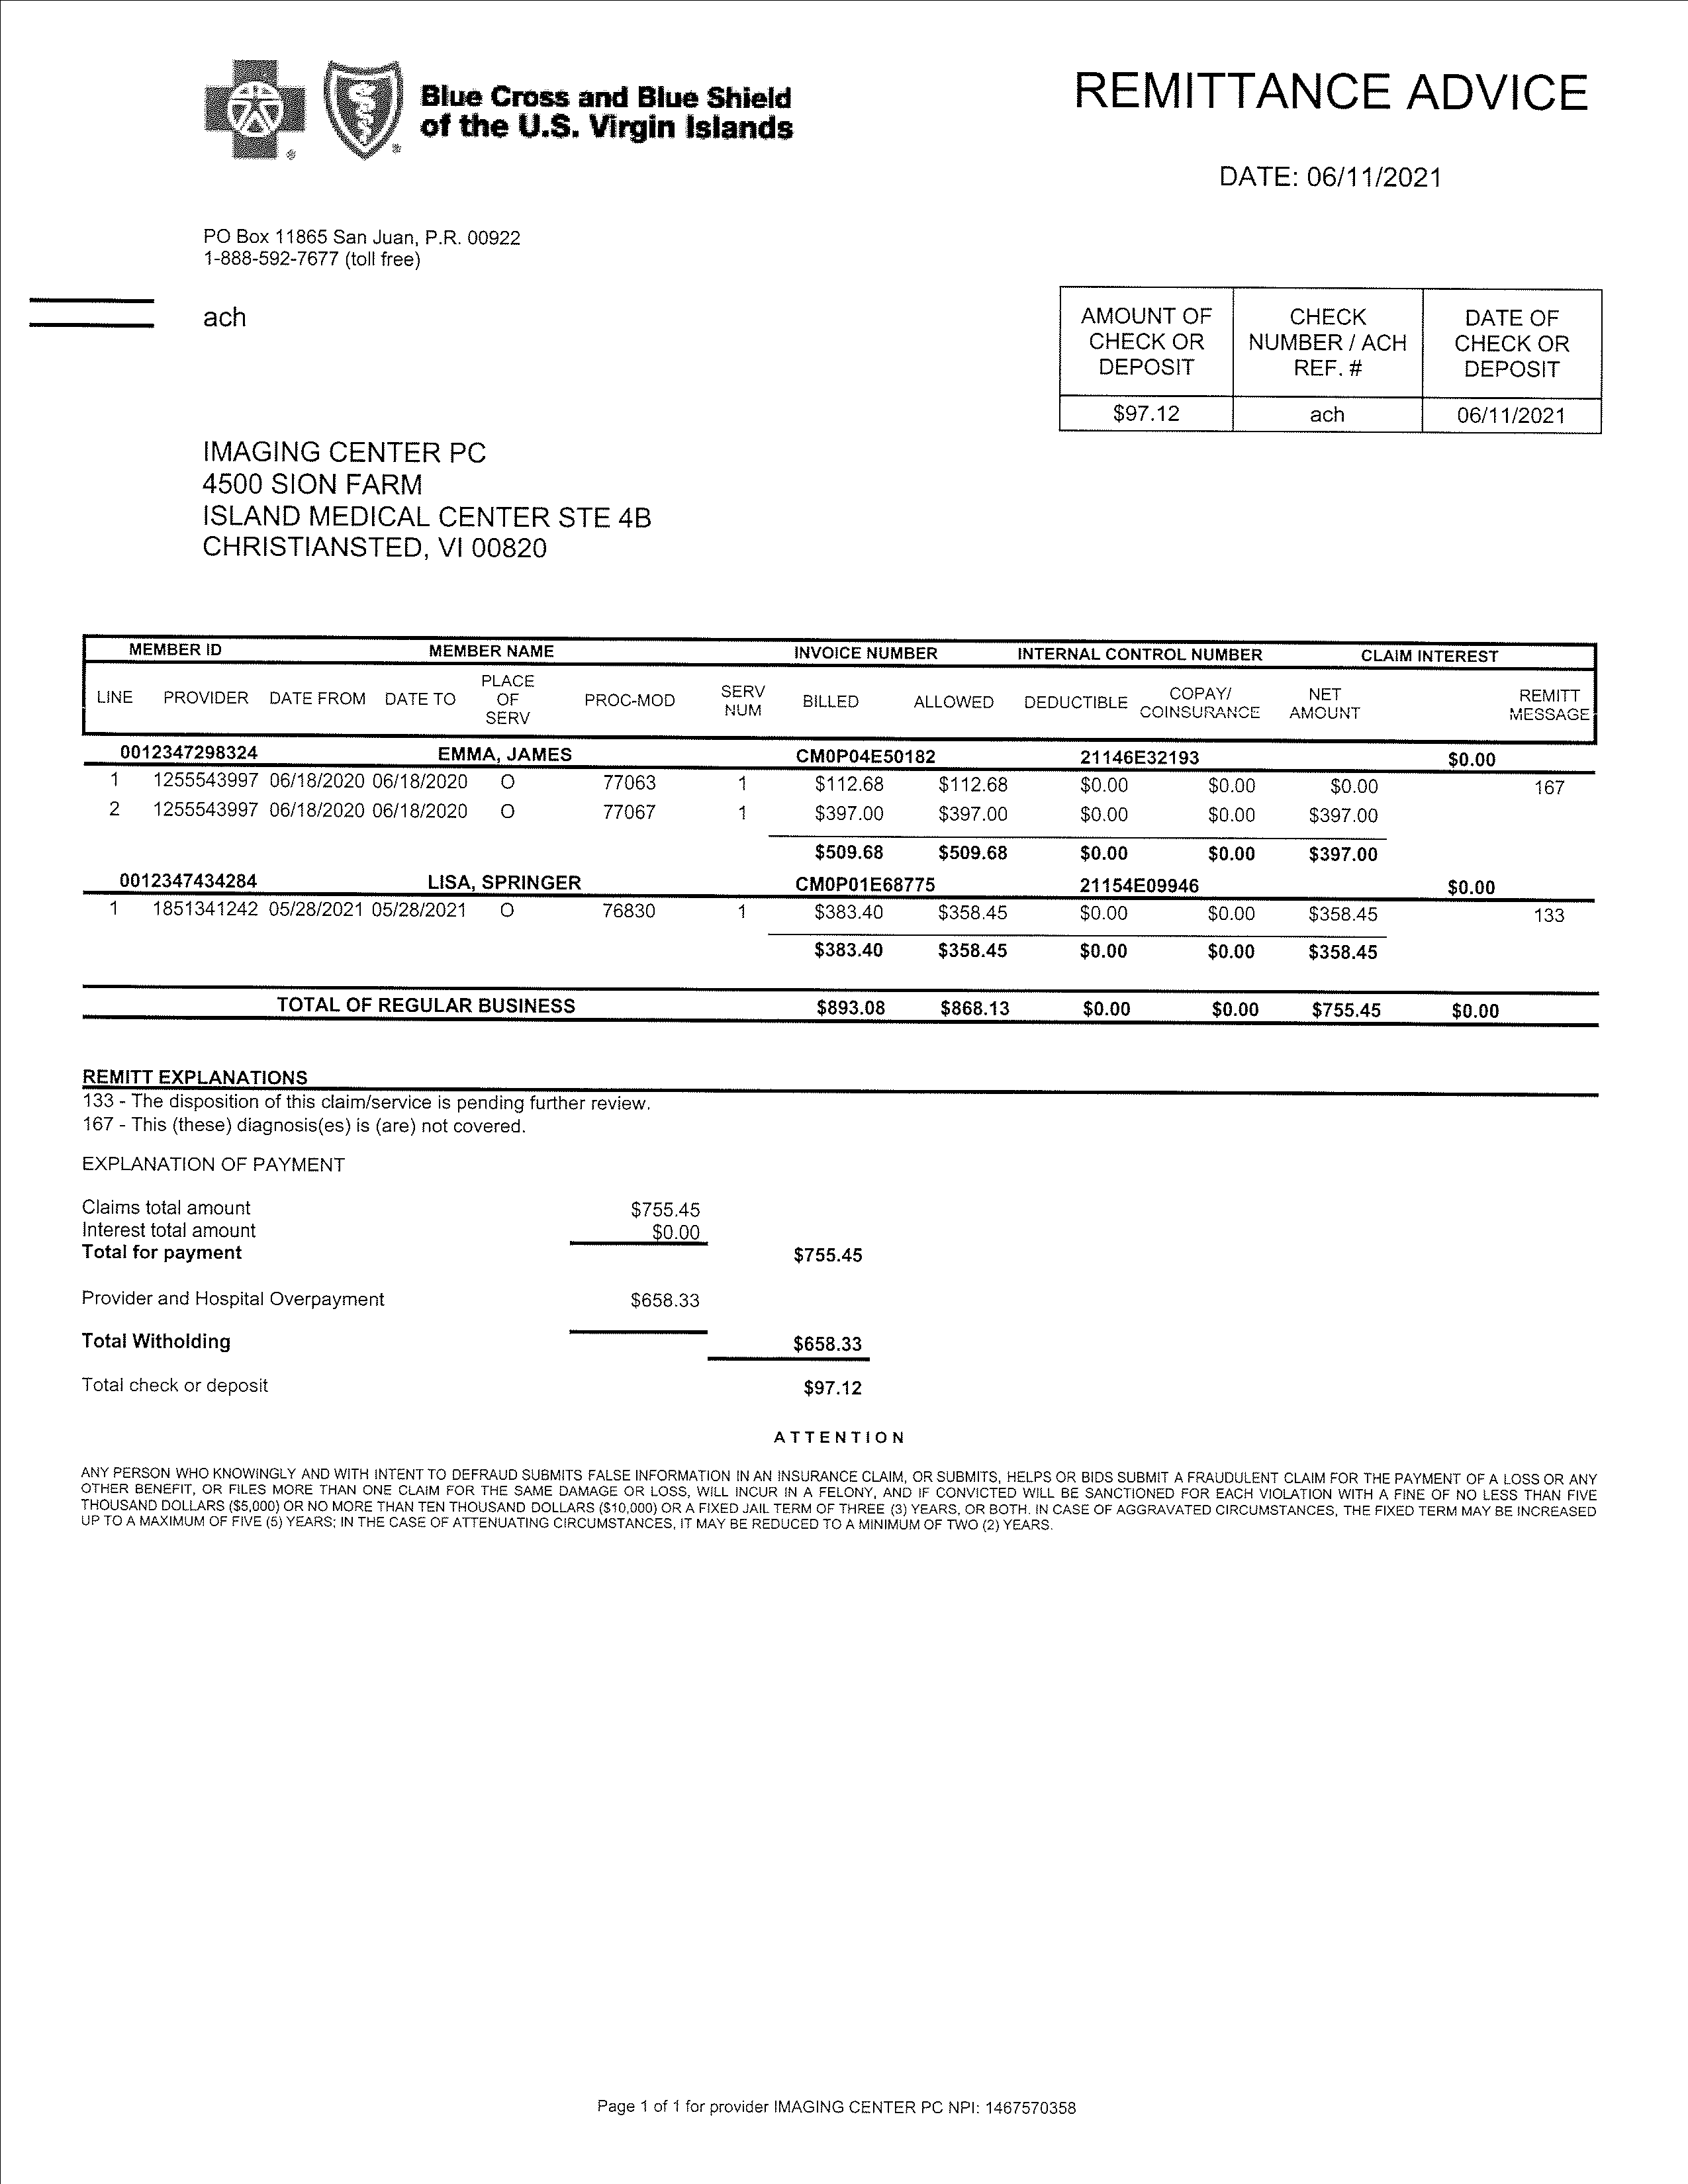table: (80, 622, 1608, 1041), (1055, 287, 1606, 452)
